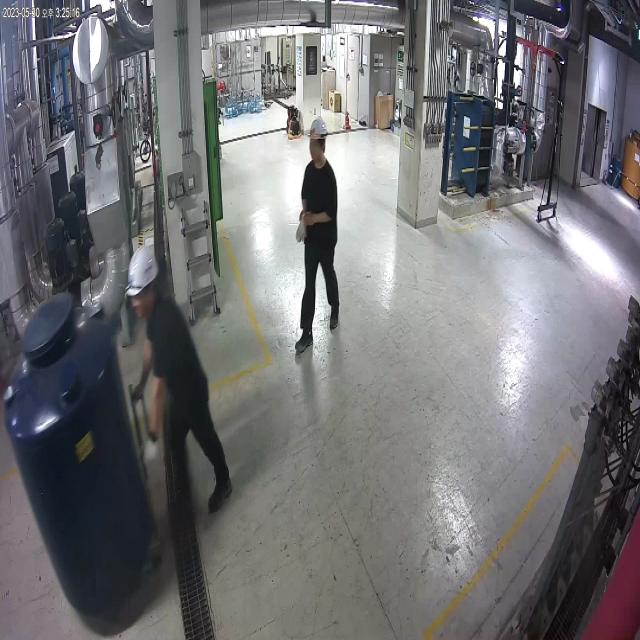Water Tank: (2, 282, 156, 618)
worker: (122, 228, 246, 528), (282, 104, 347, 367)
